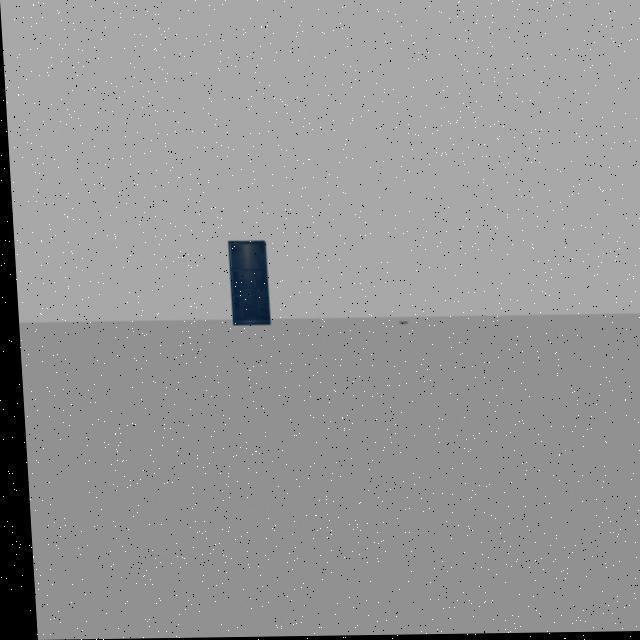bowl: (389, 314, 410, 331)
shelf: (214, 221, 279, 344)
